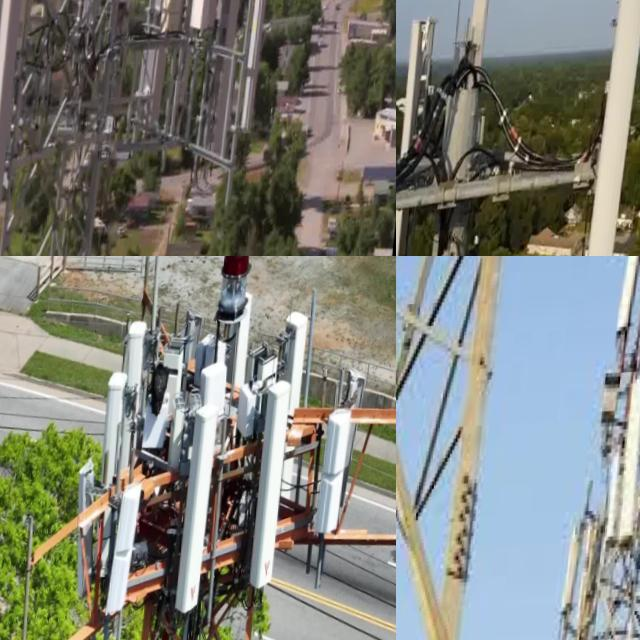GSM Antenna: (248, 383, 299, 603), (146, 0, 204, 174), (202, 0, 258, 179), (179, 408, 226, 621), (396, 10, 436, 256), (0, 0, 38, 231), (454, 0, 494, 178), (68, 451, 113, 606), (319, 407, 360, 550), (110, 477, 150, 619), (276, 312, 322, 424), (244, 0, 278, 149), (118, 310, 156, 439), (96, 370, 134, 488), (619, 381, 640, 554), (563, 521, 591, 640), (614, 256, 640, 340), (117, 0, 152, 62), (44, 0, 75, 31)
